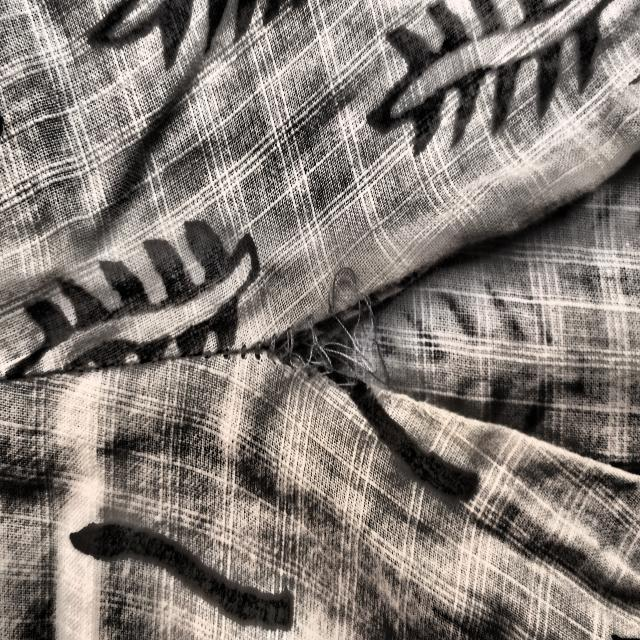Stitch: (222, 242, 440, 423)
